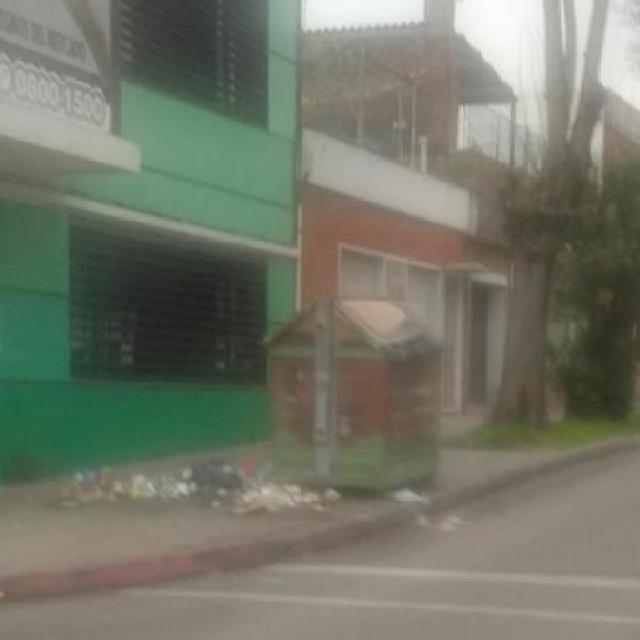garbage: (71, 451, 446, 537)
